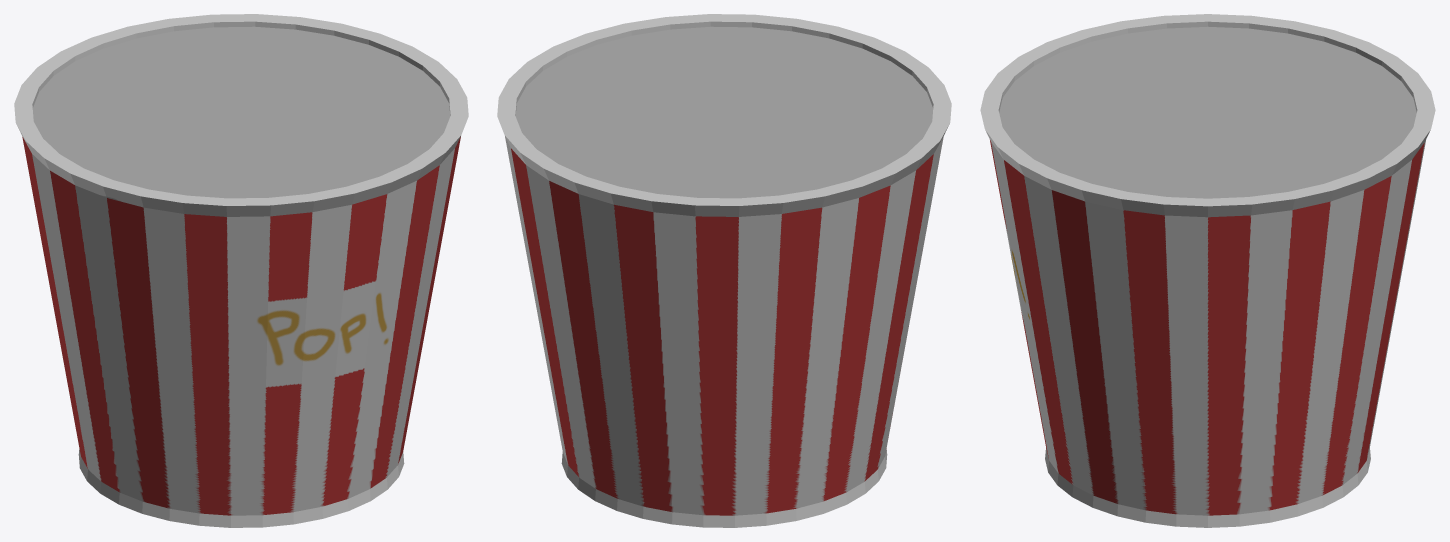
Rendered from PopCorns.fbx.
The picture shows the model from 3 angles, left to right: view 1: azimuth 30°, elevation 25°; view 2: azimuth 150°, elevation 25°; view 3: azimuth 270°, elevation 25°; orthographic projection.
Parts seen in each view (by area): view 1: Circle; view 2: Circle; view 3: Circle.
Boxes of the visible parts, <box> form: Circle: <box>14,14,468,527</box>; Circle: <box>497,14,951,527</box>; Circle: <box>980,14,1435,527</box>.
Bounding box in the file's own units: 59.12 × 50 × 59.12.
